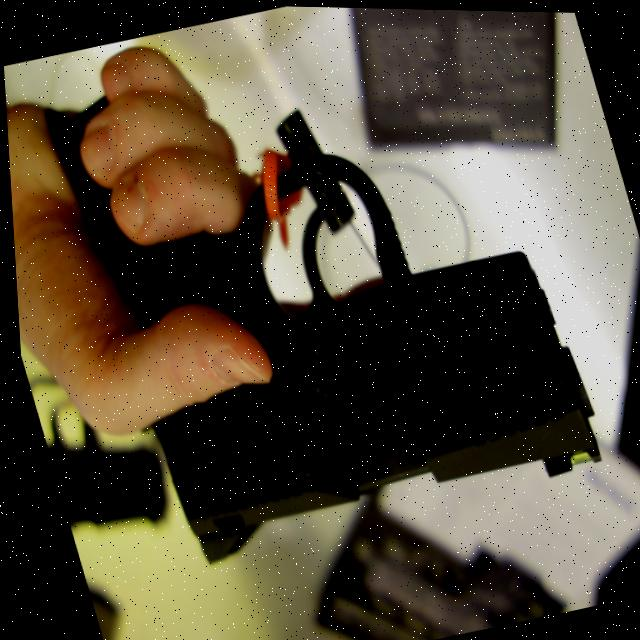pistol: (79, 103, 613, 580), (12, 253, 171, 545)
